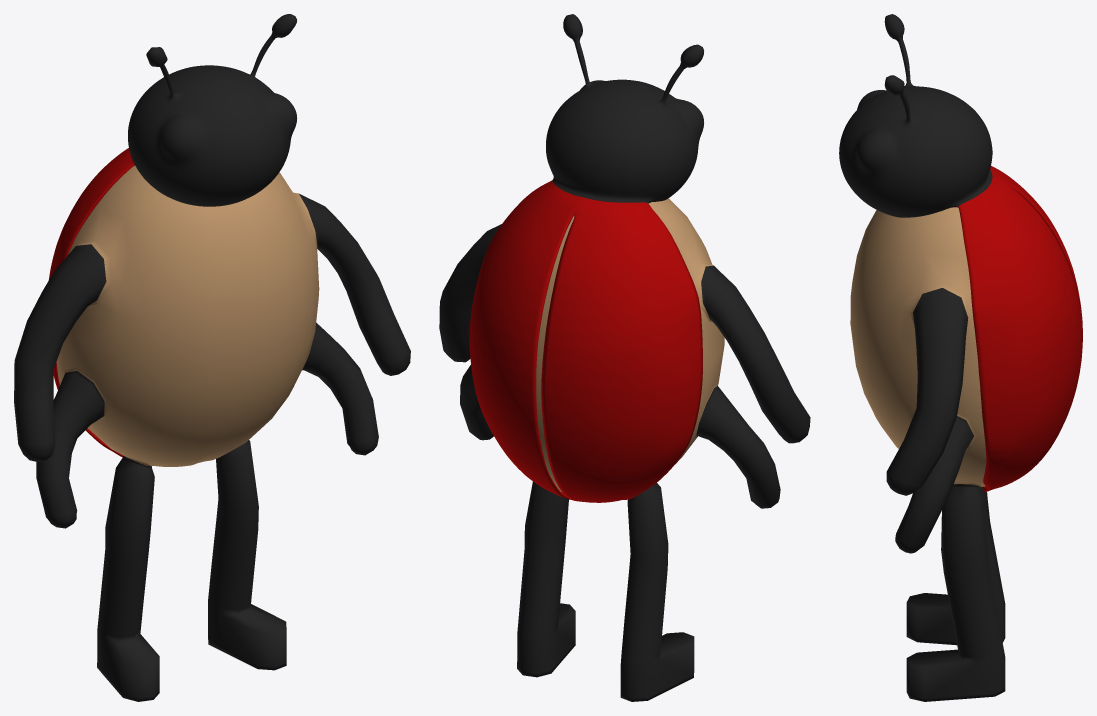
The model's file is Ladybug2.fbx.
The picture shows the model from 3 angles, left to right: view 1: azimuth 30°, elevation 25°; view 2: azimuth 150°, elevation 25°; view 3: azimuth 270°, elevation 25°; orthographic projection. The views are drawn at different scales.
Parts seen in each view (by area): view 1: Ladybug; view 2: Ladybug; view 3: Ladybug.
Boxes of the visible parts, <box> form: Ladybug: <box>14,14,410,701</box>; Ladybug: <box>439,14,810,701</box>; Ladybug: <box>839,14,1082,701</box>.
Bounding box in the file's own units: 66.98 × 109 × 38.78.
